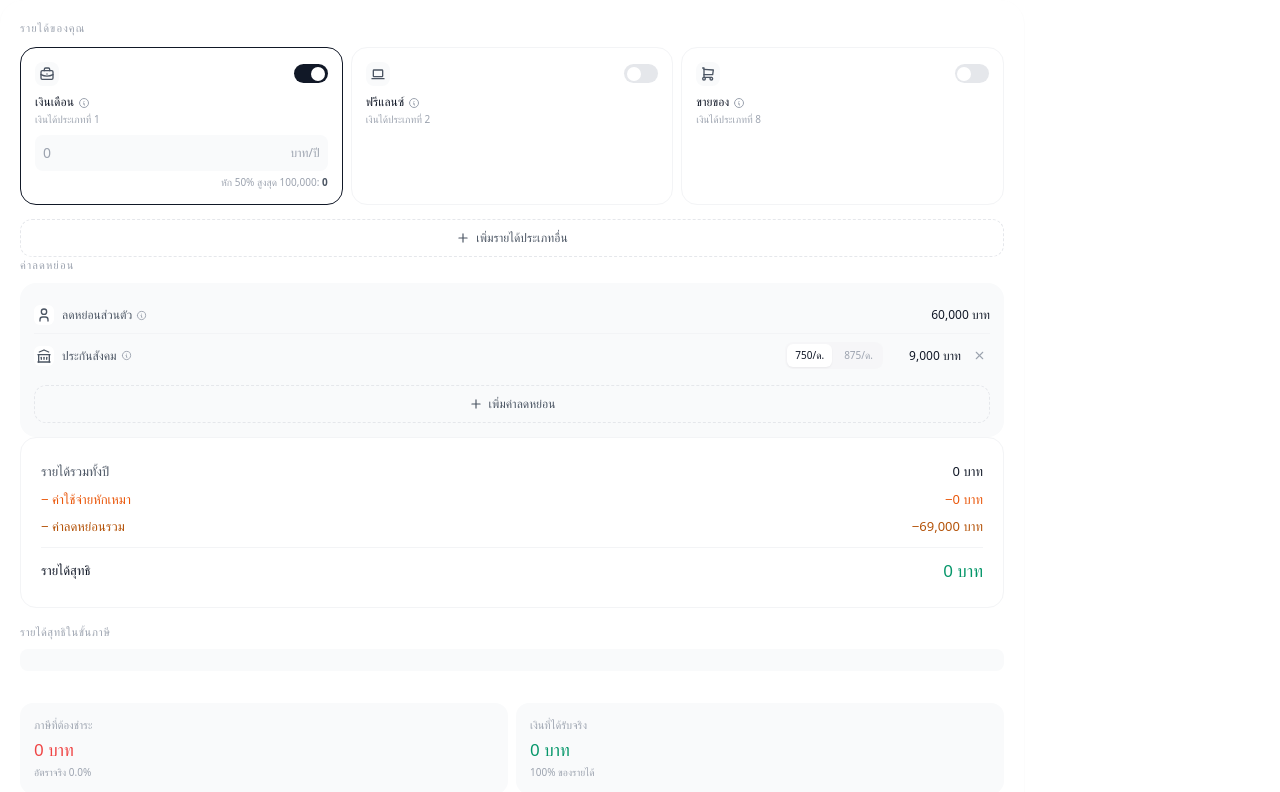
Test: TaxCard Component › updates total income when salary amount is changed
Type "1,000,000" into the field with placeholder "0" at [164, 152], box [43,142,284,162]
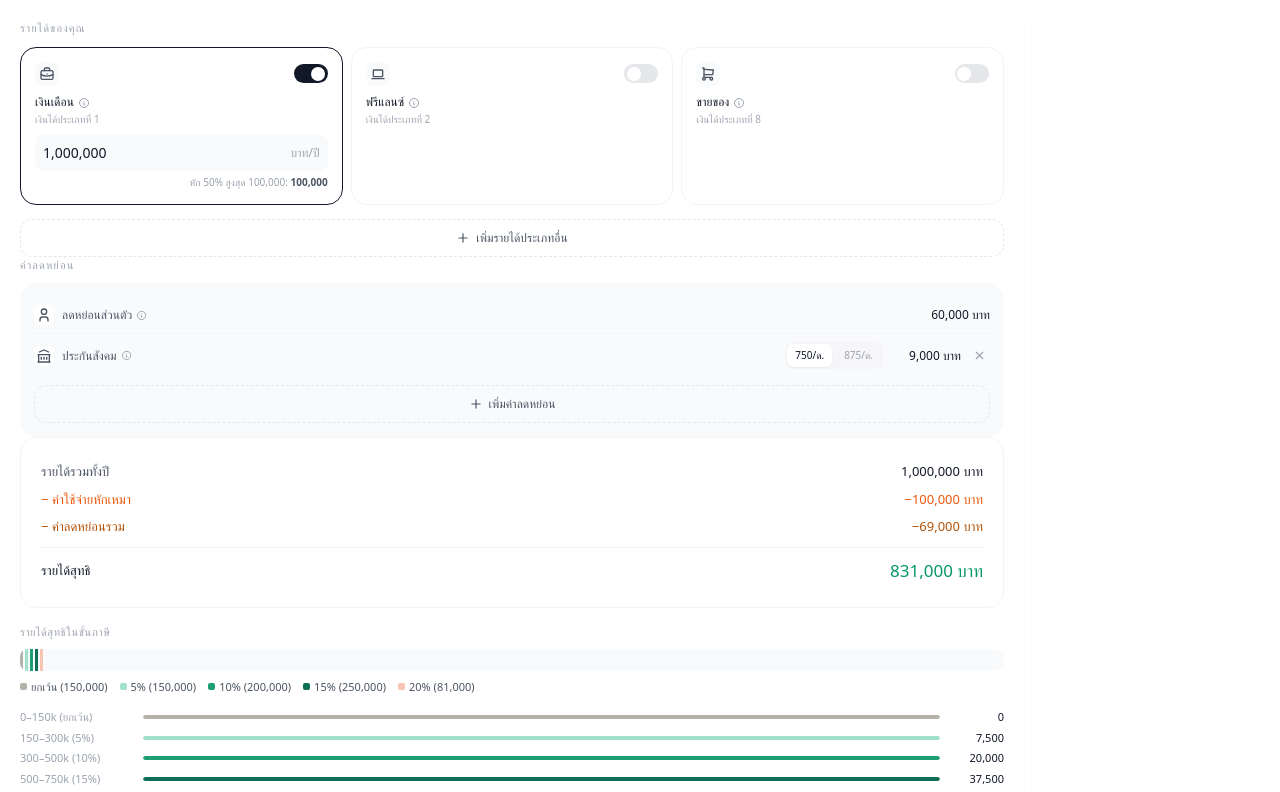
Expected: the text "1,000,000 บาท" is shown, [901,462,983,482]
